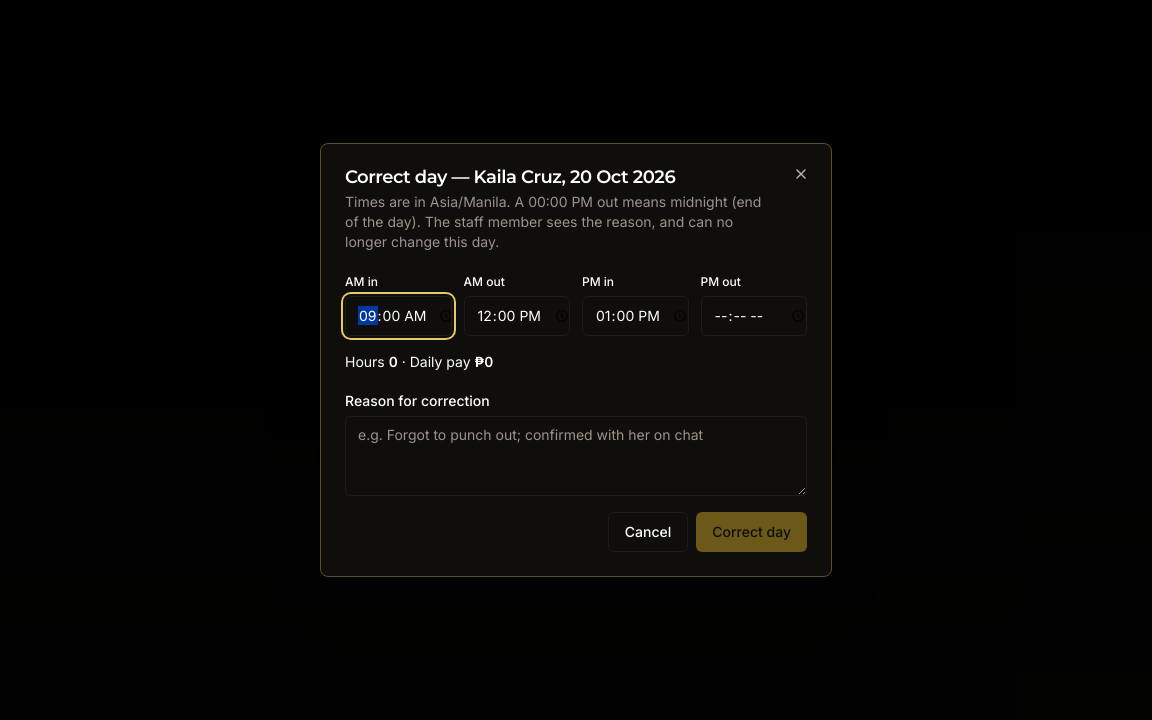
Test: Correct day dialog › needs a change AND a reason of 3+ characters, then saves with the composed instants
The width and height of the screenshot is (1152, 720).
Later steps or results of the test are not shown.
Check: the button with test id "correct-save" is disabled, box [696,512,807,552]
Type "18:00" into the time field labelled "PM out" at [754, 316], box [700,296,807,336]
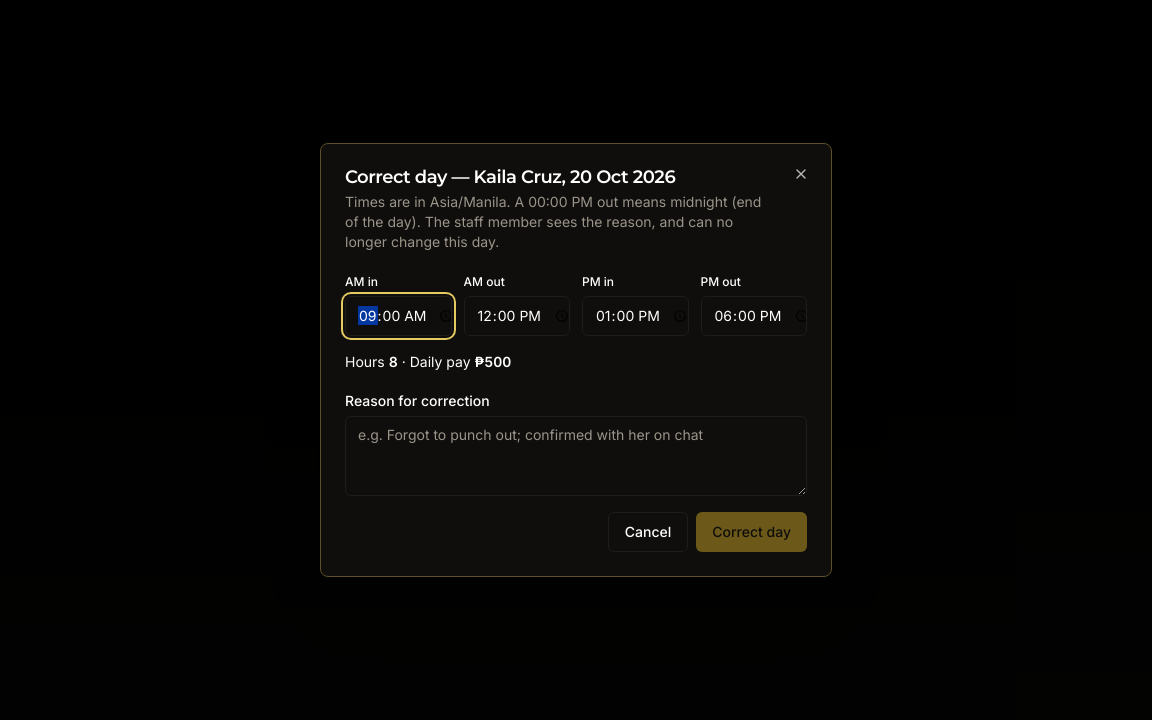
Check: the button with test id "correct-save" is disabled, box [696,512,807,552]
Type "ab" into the text box labelled "Reason for correction" at [576, 456], box [345,416,807,496]
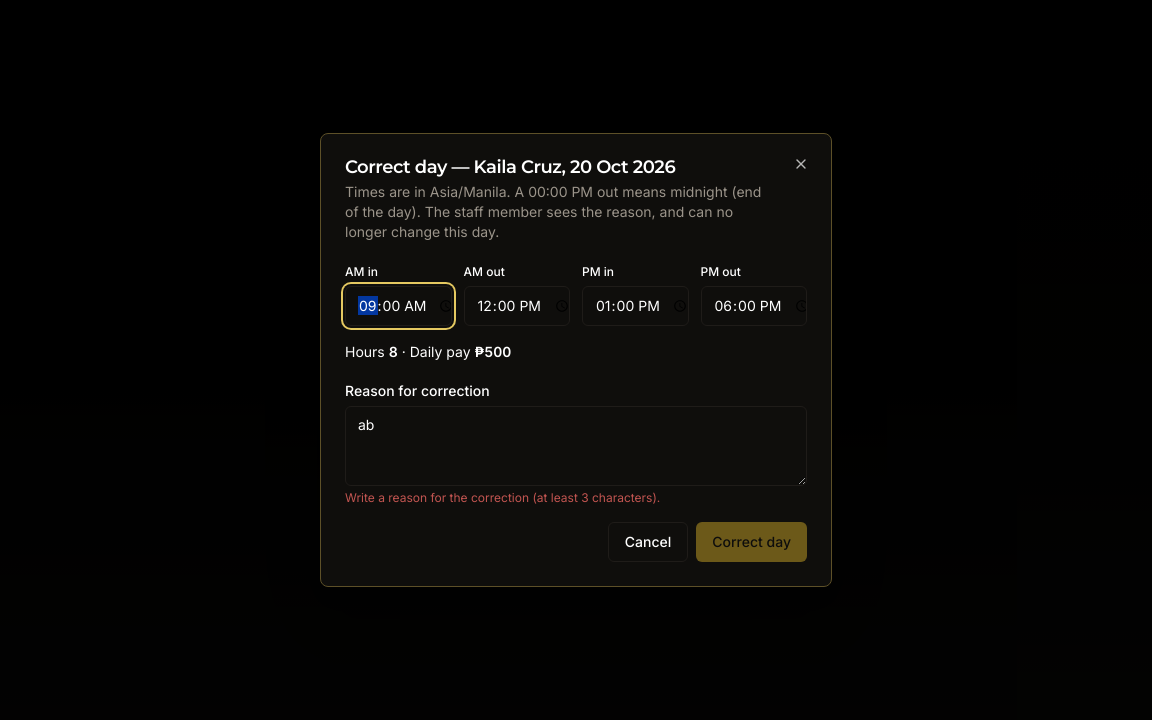
Check: the button with test id "correct-save" is disabled, box [696,522,807,562]
Check: the text "Write a reason for the correction (at least 3 characters)." is shown, box [345,490,660,505]
Replace the text in the text box labelled "Reason for correction" with "  Forgot to punch out  " at [576, 446], box [345,406,807,486]
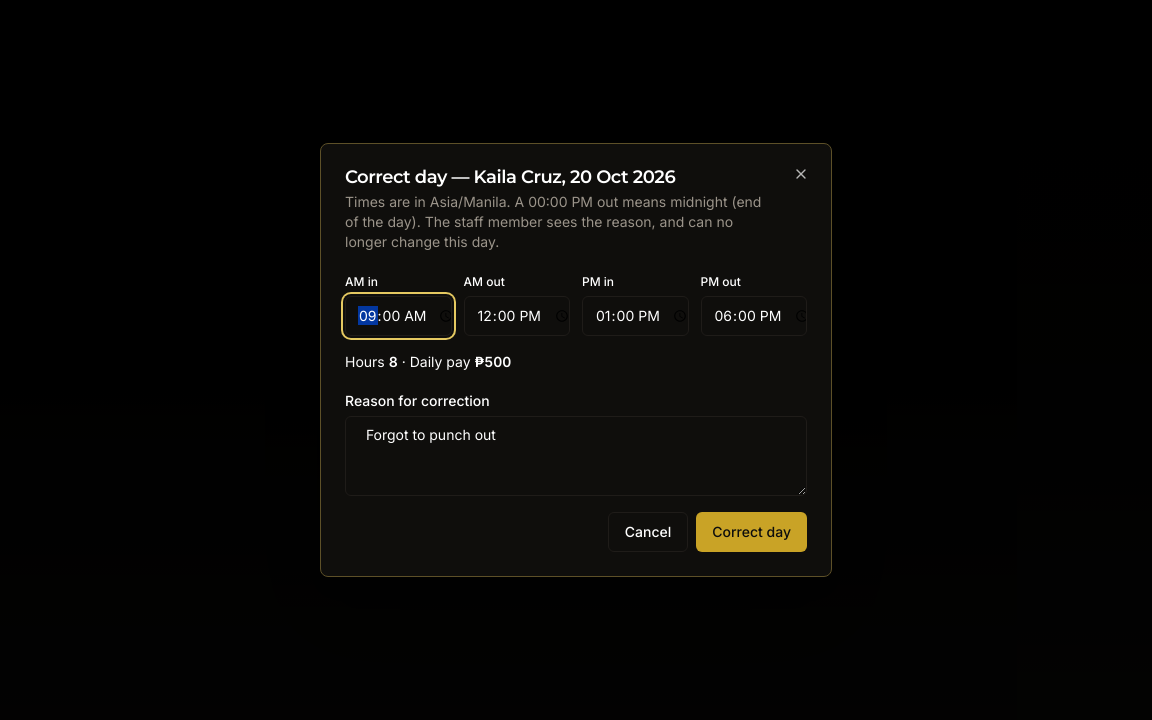
Check: the button with test id "correct-save" is enabled, box [696,512,807,552]
